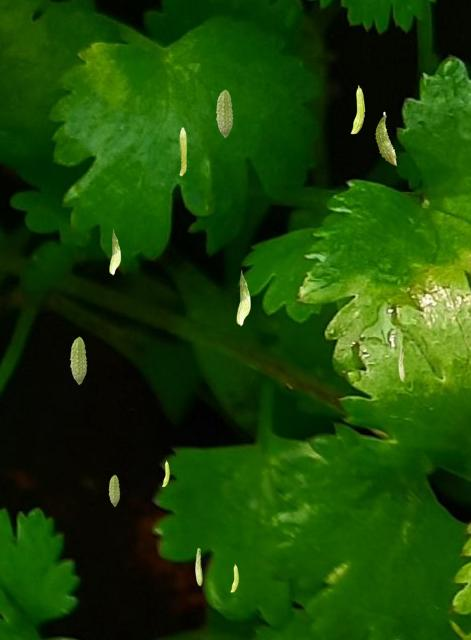ampalaya: (374, 111, 397, 166), (69, 336, 87, 385), (215, 89, 233, 138), (236, 269, 251, 326), (350, 85, 365, 134), (109, 228, 121, 275), (108, 474, 120, 507), (179, 127, 187, 176), (195, 548, 202, 586), (230, 563, 239, 592), (398, 346, 405, 382), (161, 460, 170, 487)
